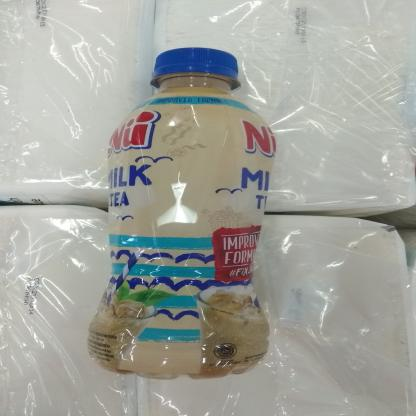plastic: (82, 43, 279, 381)
